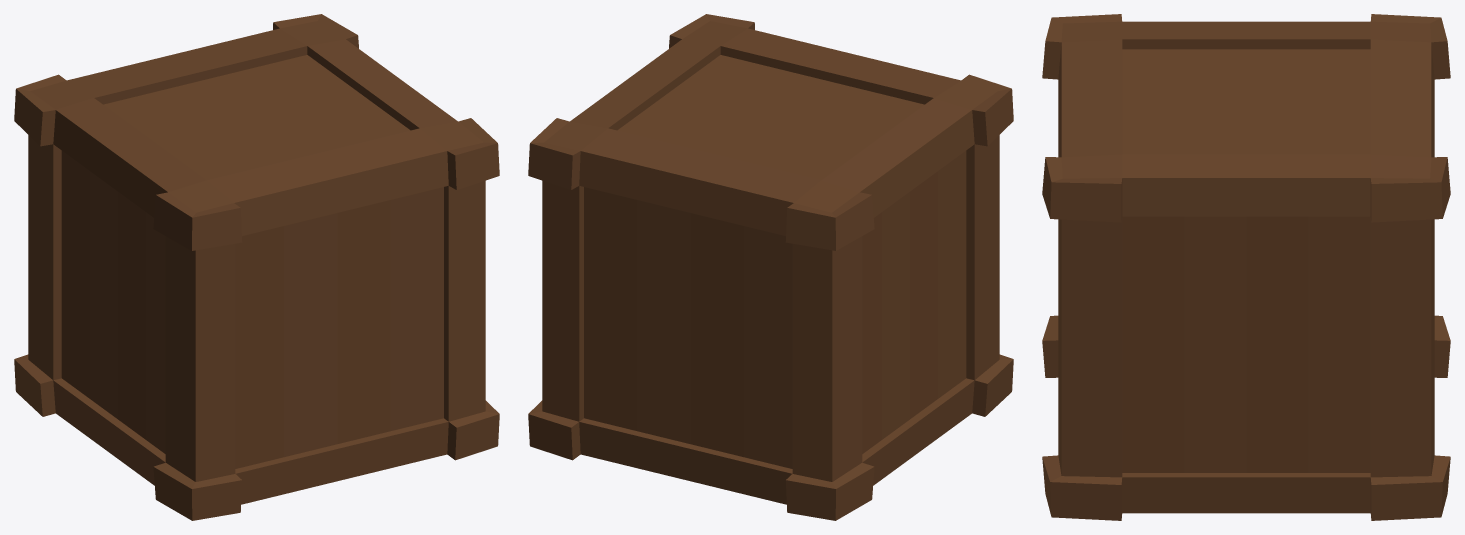
Rendered from Wooden_crate_closed.glb.
3 views of the same model, side by side, from view 1: azimuth 30°, elevation 25°; view 2: azimuth 150°, elevation 25°; view 3: azimuth 270°, elevation 25° (orthographic). The views are drawn at different scales.
Parts seen in each view (by area): view 1: Wooden crate_closed; view 2: Wooden crate_closed; view 3: Wooden crate_closed.
Boxes of the visible parts, box(x1,y1,x2,y2) form: Wooden crate_closed: box(14, 14, 499, 520); Wooden crate_closed: box(528, 14, 1013, 520); Wooden crate_closed: box(1042, 14, 1450, 520).
Bounding box in the file's own units: 0.0856 × 0.0789 × 0.0856.
Materials: 1 (1 with a texture image).
